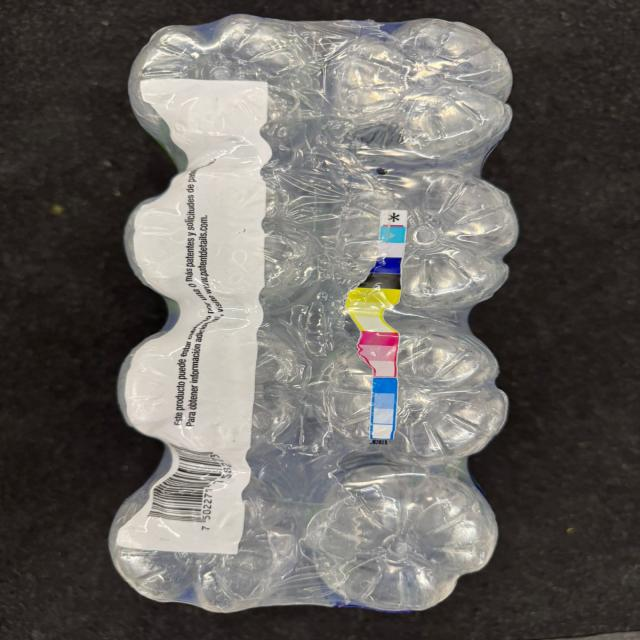AGUA PURIFICADA BIOLEVE 0: (115, 19, 538, 618)
